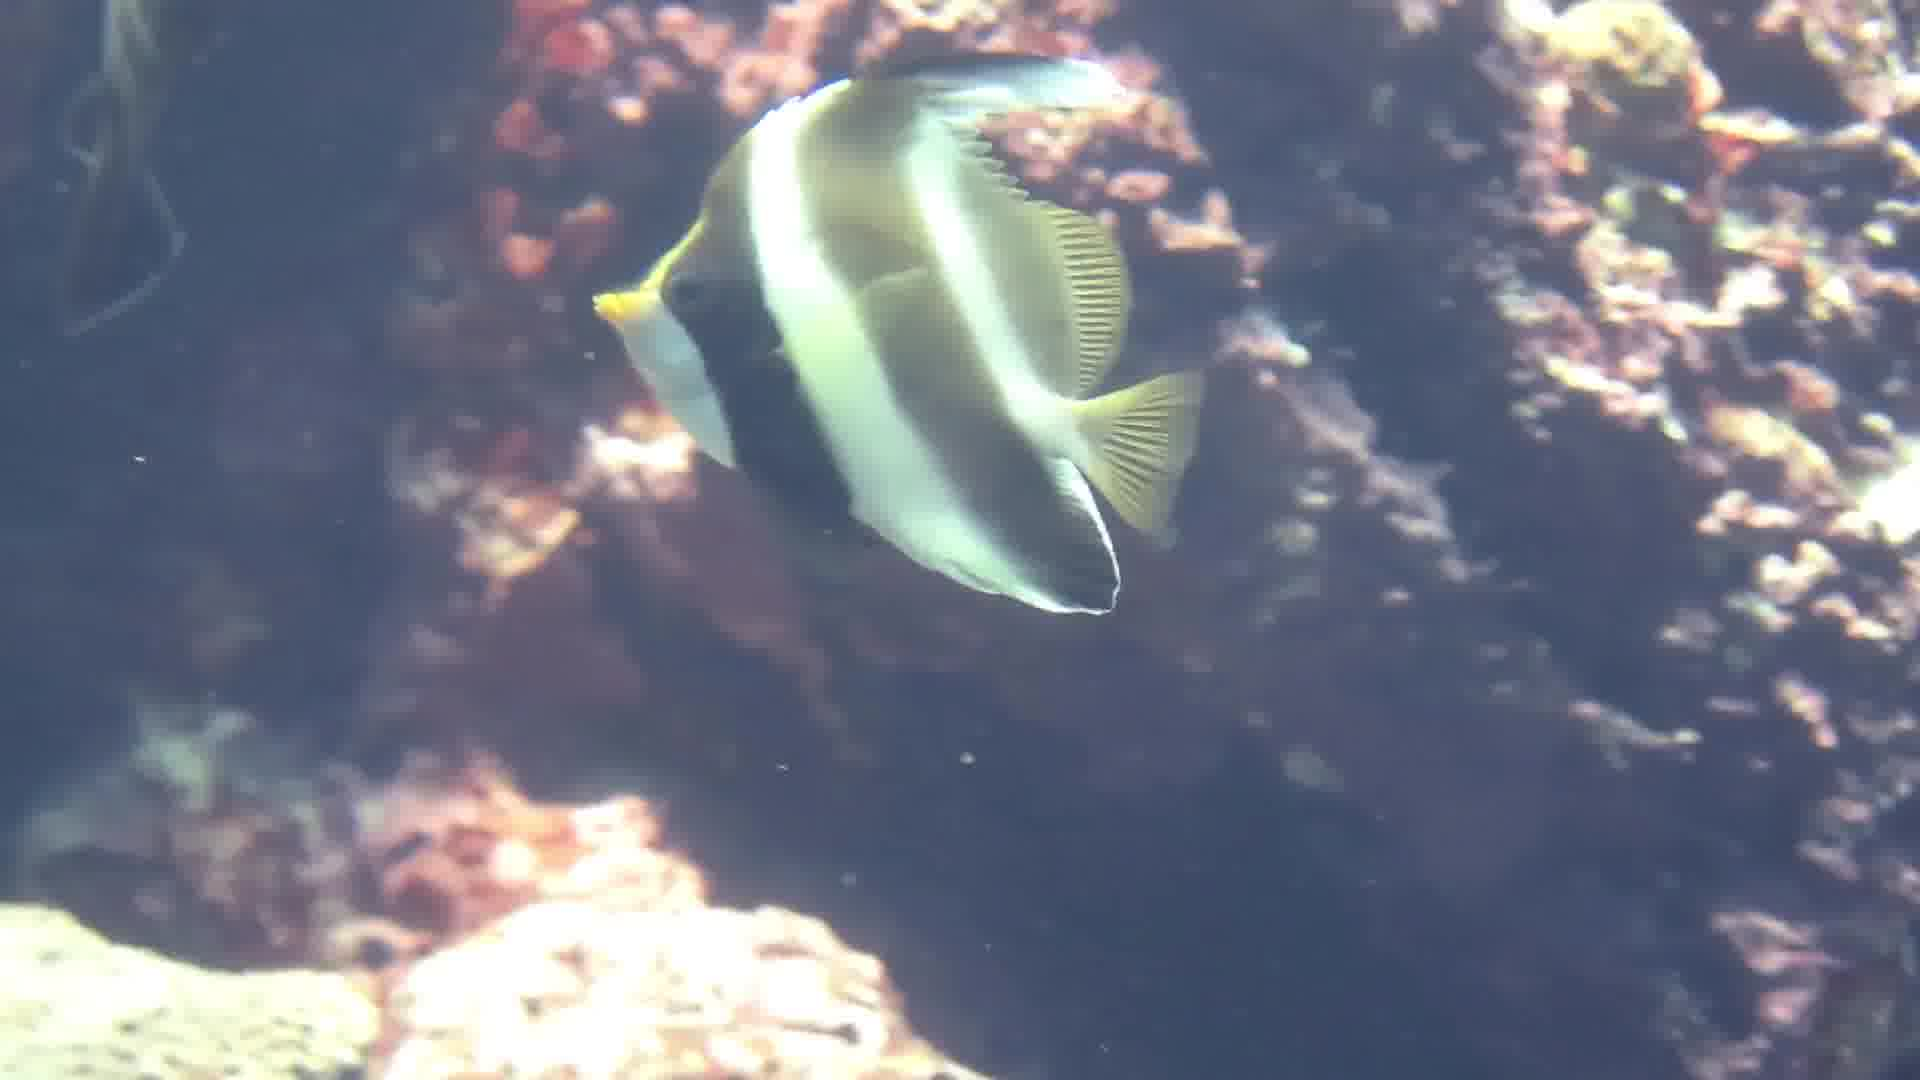Heniochus chrysostomus: (517, 1, 1258, 711)
